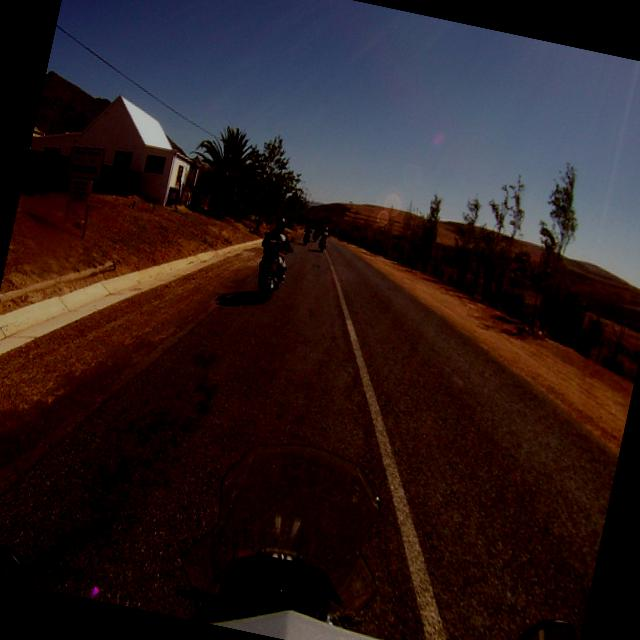Vehicle: (249, 231, 294, 307), (317, 234, 329, 252), (301, 228, 313, 245), (312, 232, 320, 242)
